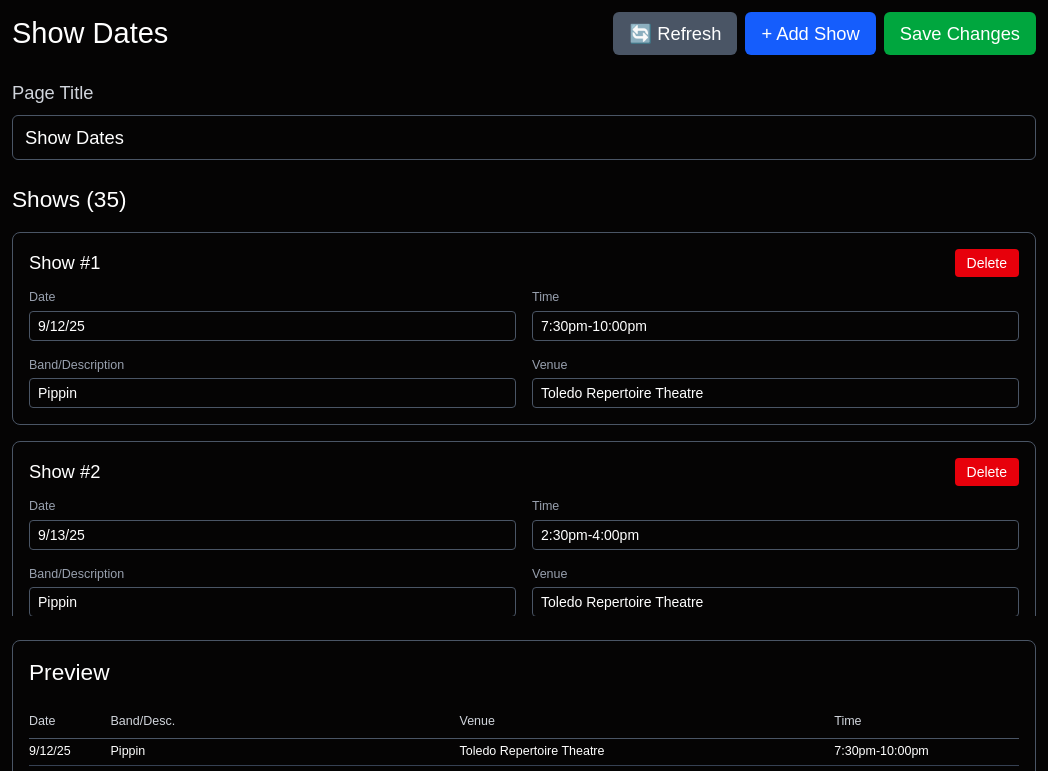
Shows Admin Editor › Save Functionality › shows success state after saving
The width and height of the screenshot is (1048, 771).
Click the button "Save Changes" at (960, 34), box [884,12,1036,56]
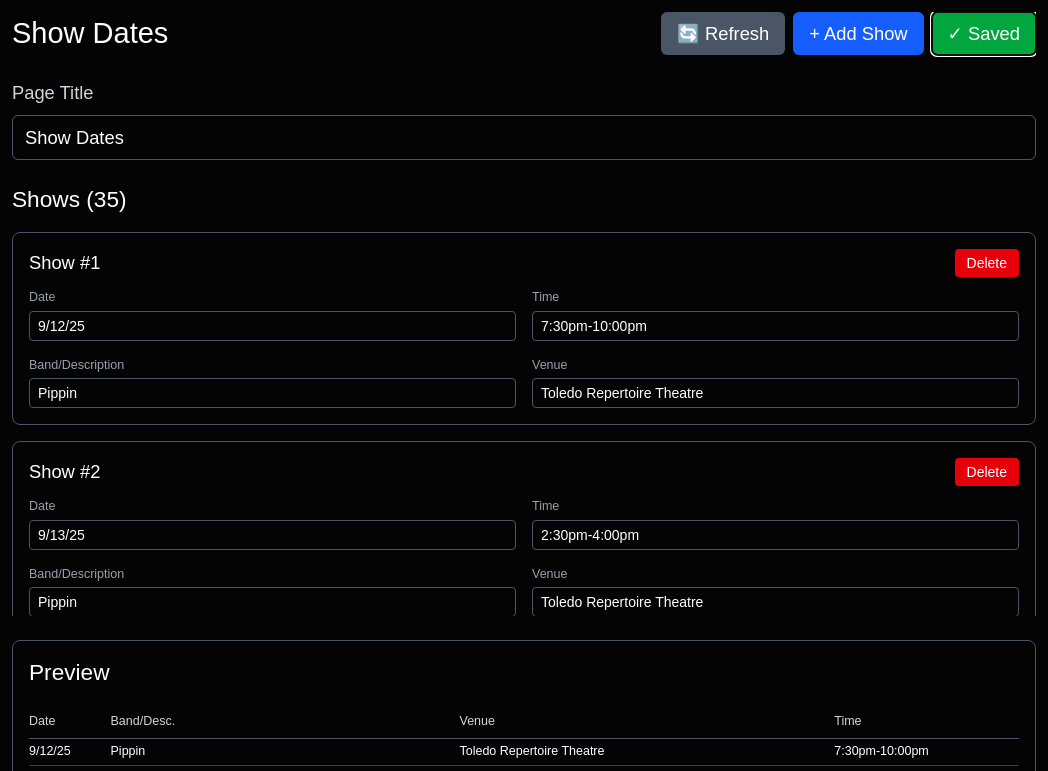
Check: the button "✓ Saved" is shown, box [932,12,1036,56]
